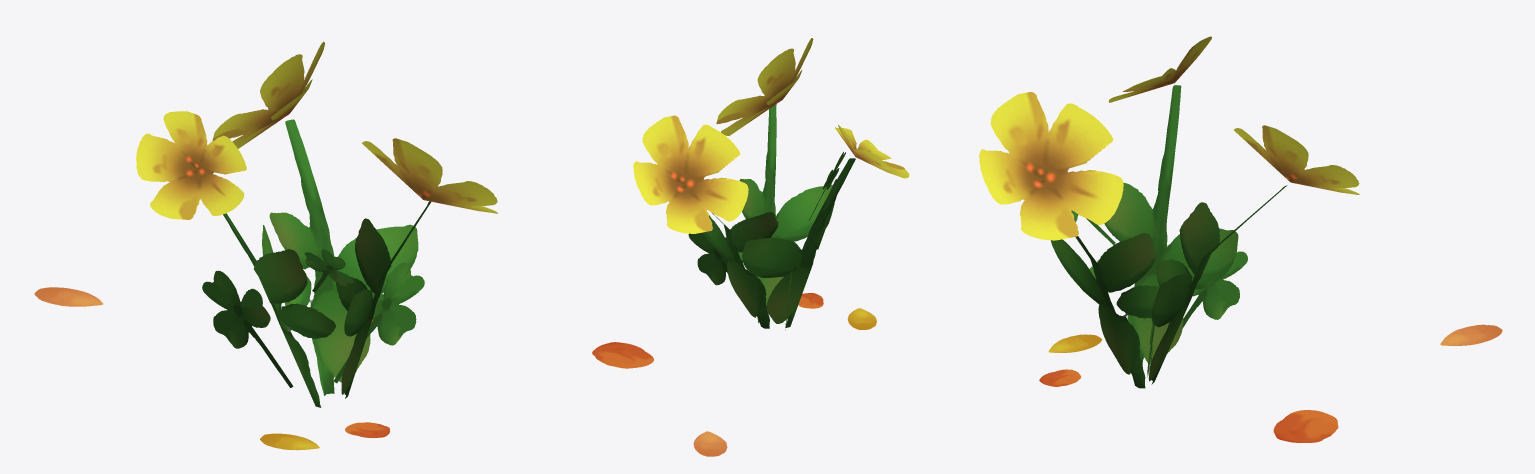
The model's file is flower.FBX.
3 renders of one model, left to right at view 1: azimuth 30°, elevation 25°; view 2: azimuth 150°, elevation 25°; view 3: azimuth 270°, elevation 25°, orthographic. The views are drawn at different scales.
Parts seen in each view (by area): view 1: flower; view 2: flower; view 3: flower.
Boxes of the visible parts, x1,y1,x2,y2 form: flower: [34, 41, 498, 450]; flower: [592, 38, 909, 456]; flower: [979, 36, 1502, 442].
Bounding box in the file's own units: 257 × 219 × 356.
